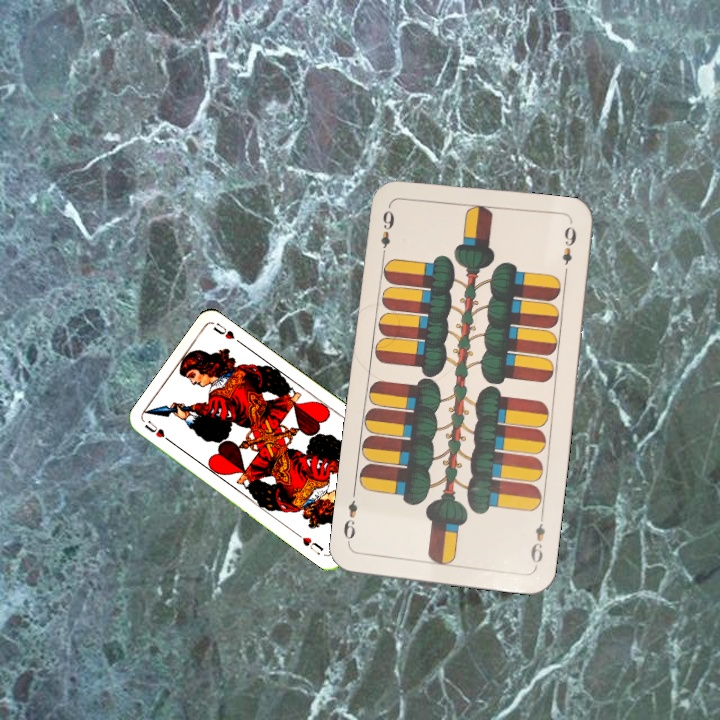E9: (526, 510, 548, 569), (376, 201, 397, 260)
HU: (140, 416, 175, 446)
